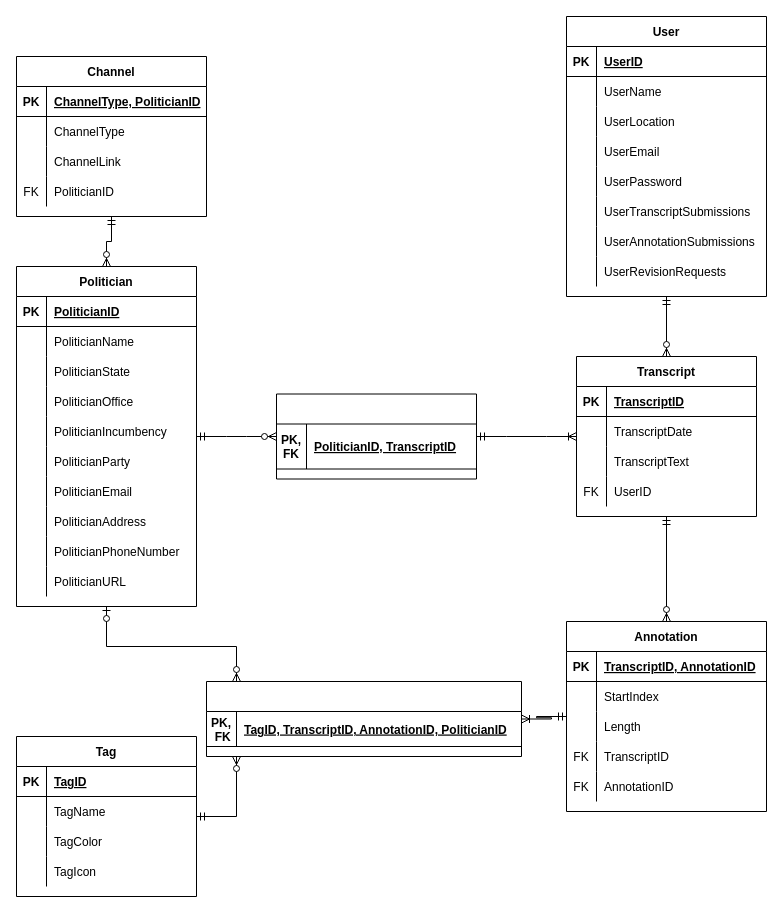
This 783x913 diagram has some shape labels left out. The shapes that lost their labels are listed below. From the top down, each one's box as (x1, y1, x2, y2) in pixels, then its label:
(276, 393, 476, 479): PoliticianTranscript
(206, 680, 522, 756): AnnotationTag
